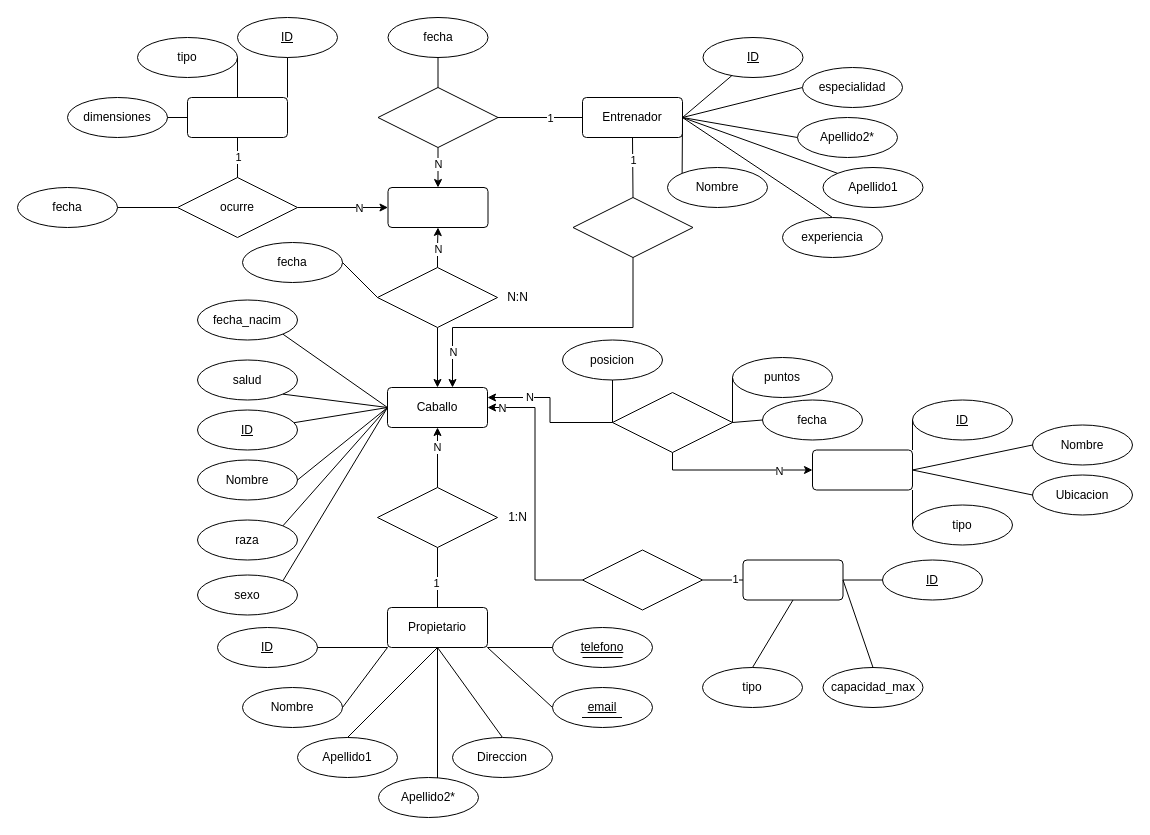
This 1150x835 diagram has some shape labels left out. The shapes that lost their labels are listed below. From the top down, each one's centre as x and y in pixels, then its label:
pixel 237 117: instalacion
pixel 437 117: dirige
pixel 437 207: Actividad
pixel 632 227: trabaja
pixel 437 297: realiza
pixel 672 422: participa
pixel 862 469: competicion
pixel 437 517: Pertenece
pixel 642 579: duerme
pixel 792 579: Establo
